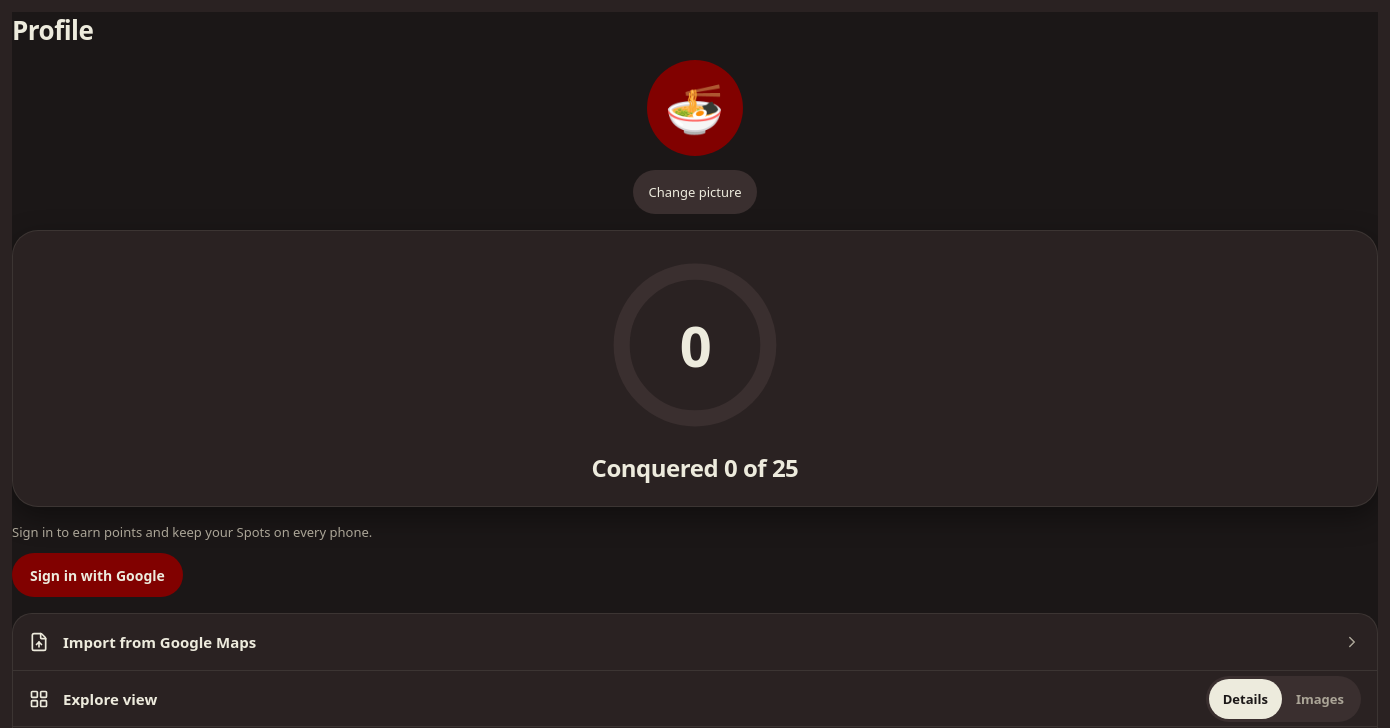
Test case: the menu card › Explore view: Details is chosen by default, and picking Images saves it
This screenshot has width=1390, height=728.
Click the radio button labelled "Images". click: (1320, 698)
box: [1282,678,1358,718]
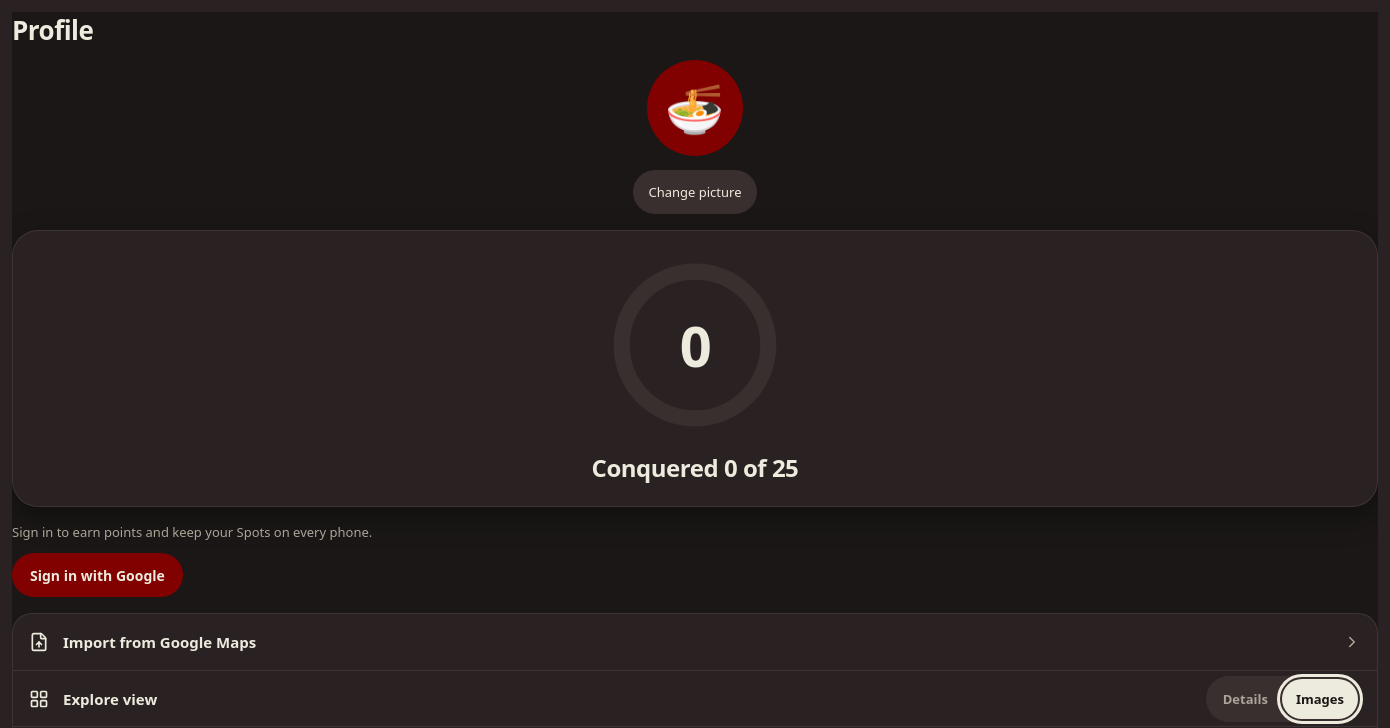
Expected: the radio button labelled "Images" is checked, [1282,678,1358,718]
